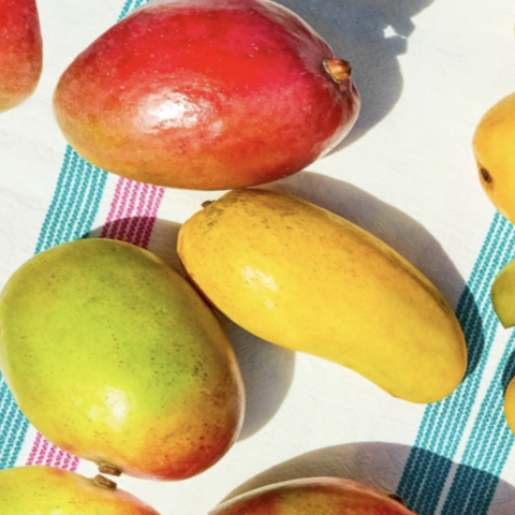mango: (20, 0, 437, 279), (121, 140, 515, 435), (0, 191, 342, 515)
